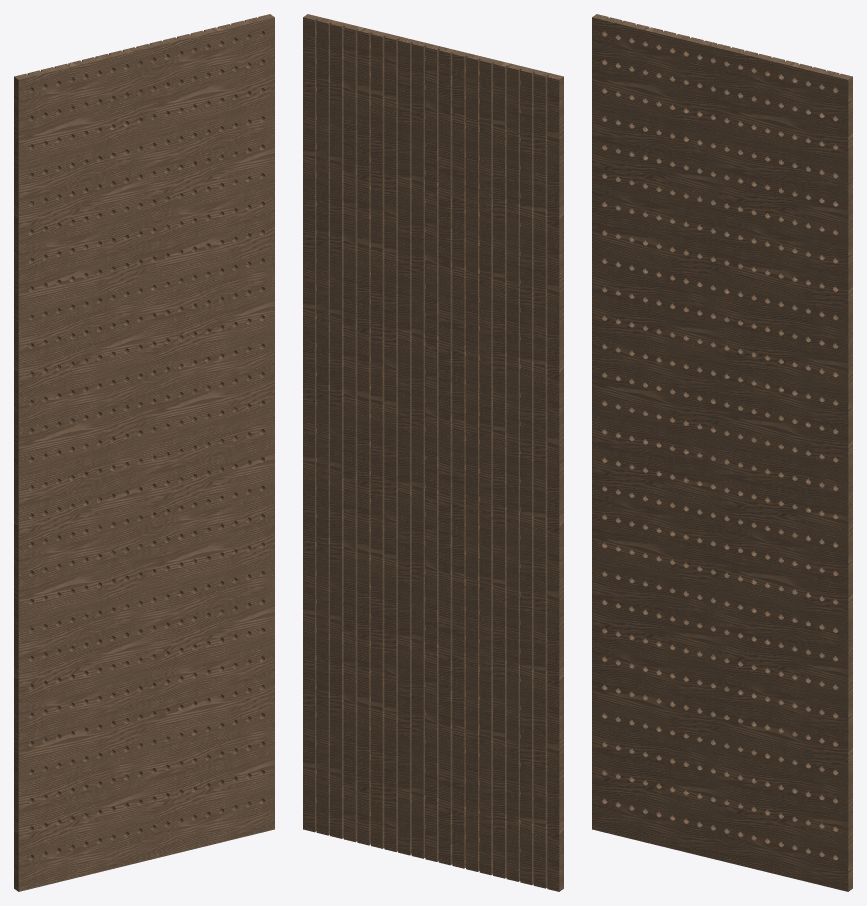
The model's file is DSA 28_4.glb.
3 renders of one model, left to right at view 1: azimuth 30°, elevation 25°; view 2: azimuth 150°, elevation 25°; view 3: azimuth 330°, elevation 25°, orthographic.
Visible parts, largest first — view 1: DSA 28_4 v1; view 2: DSA 28_4 v1; view 3: DSA 28_4 v1.
Boxes of the visible parts, x1,y1,x2,y2 form: DSA 28_4 v1: [14, 14, 274, 891]; DSA 28_4 v1: [303, 14, 563, 891]; DSA 28_4 v1: [592, 14, 852, 891].
Bounding box in the file's own units: 23.78 × 72 × 0.7515.
1 material, 1 textured.
